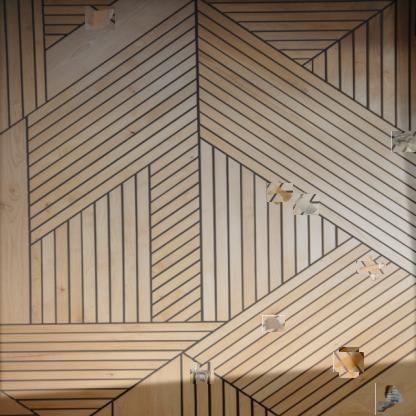dirty: (375, 384, 404, 416), (85, 6, 115, 30), (392, 129, 416, 153), (294, 192, 318, 216), (190, 362, 214, 384), (360, 256, 382, 278), (262, 315, 285, 332)
liquid: (336, 350, 362, 375), (268, 181, 292, 204)
